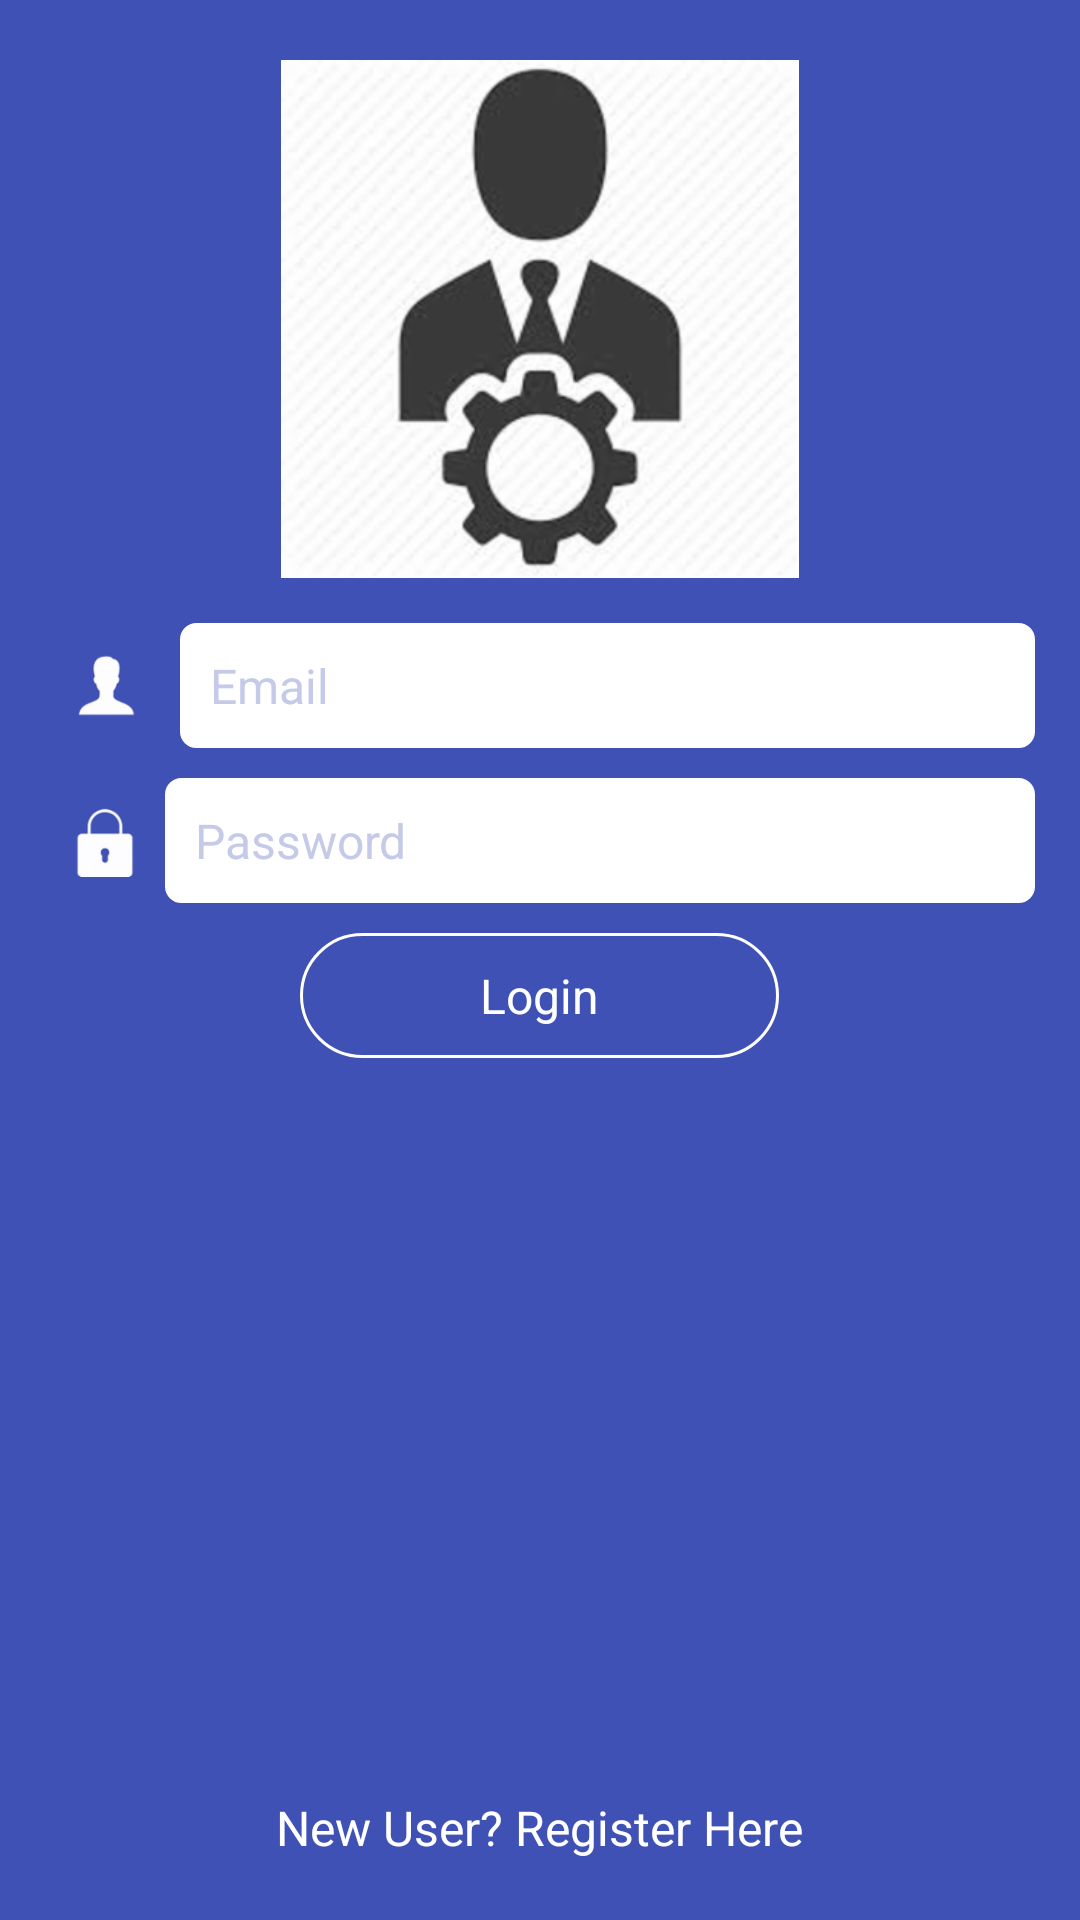

Icons on this 1080px×1920px Android screen, each with the point to tap as [x,y]:
username: [106,685]
